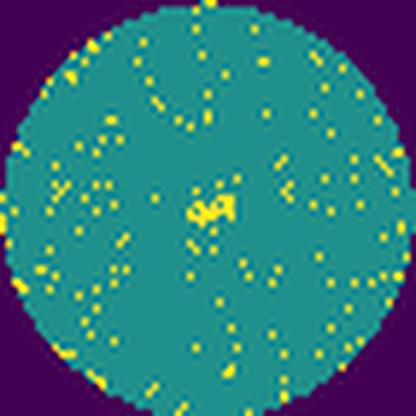Center: (186, 193, 236, 228)
